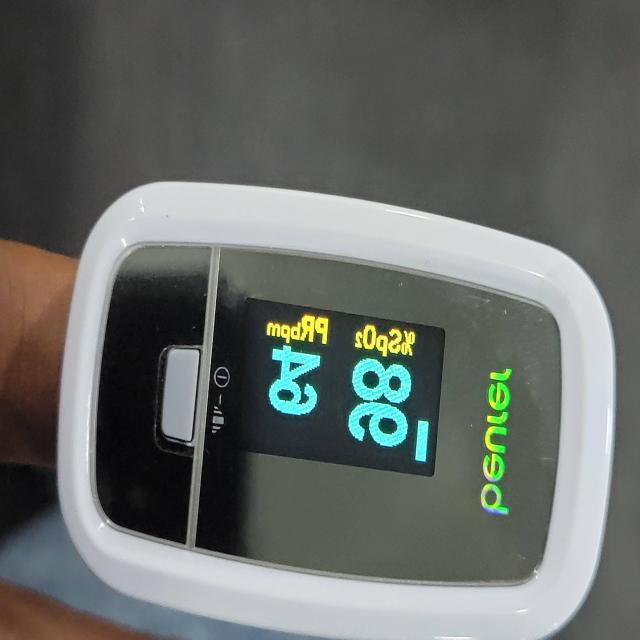spo2: (54, 182, 619, 640)
